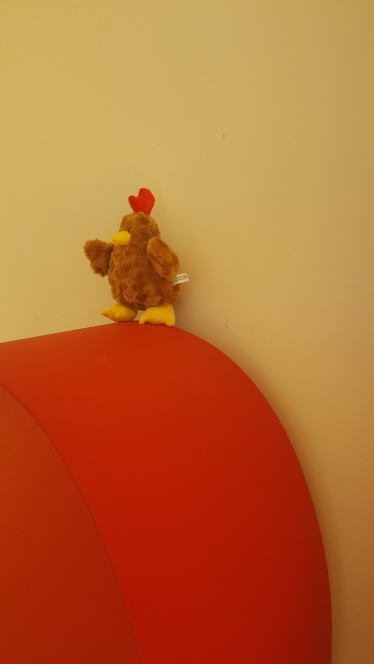chicken_front: (81, 185, 190, 326)
